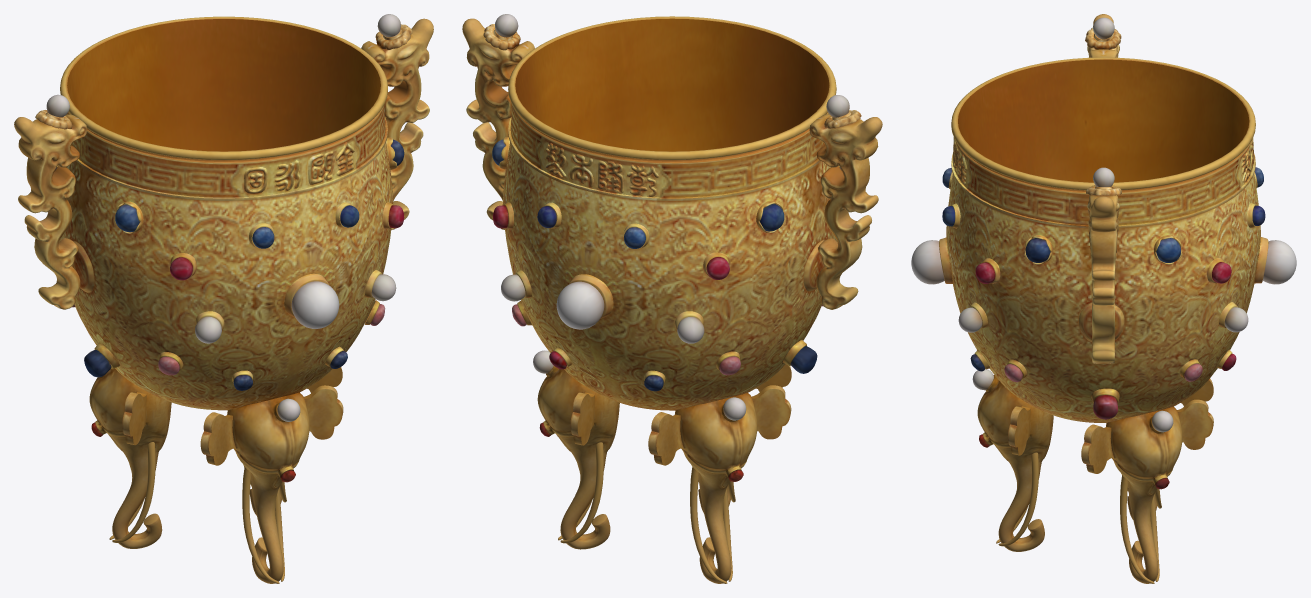
File: cup.FBX
The picture shows the model from 3 angles, left to right: view 1: azimuth 30°, elevation 25°; view 2: azimuth 150°, elevation 25°; view 3: azimuth 270°, elevation 25°; orthographic projection. The views are drawn at different scales.
Visible parts, largest first — view 1: dbg_jyq_jwygb_body, dbg_jyq_jwygb_zz, dbg_jyq_jwygb_bs; view 2: dbg_jyq_jwygb_body, dbg_jyq_jwygb_zz, dbg_jyq_jwygb_bs; view 3: dbg_jyq_jwygb_body, dbg_jyq_jwygb_zz, dbg_jyq_jwygb_bs.
Boxes of the visible parts, box(x1,y1,x2,y2) form: dbg_jyq_jwygb_body: box(14, 16, 433, 583); dbg_jyq_jwygb_zz: box(46, 14, 400, 421); dbg_jyq_jwygb_bs: box(55, 139, 404, 482); dbg_jyq_jwygb_body: box(462, 16, 882, 583); dbg_jyq_jwygb_zz: box(495, 14, 849, 420); dbg_jyq_jwygb_bs: box(492, 139, 840, 481); dbg_jyq_jwygb_body: box(939, 14, 1268, 583); dbg_jyq_jwygb_zz: box(911, 17, 1296, 432); dbg_jyq_jwygb_bs: box(942, 167, 1265, 489).
Bounding box in the file's own units: 119 × 135 × 103.
